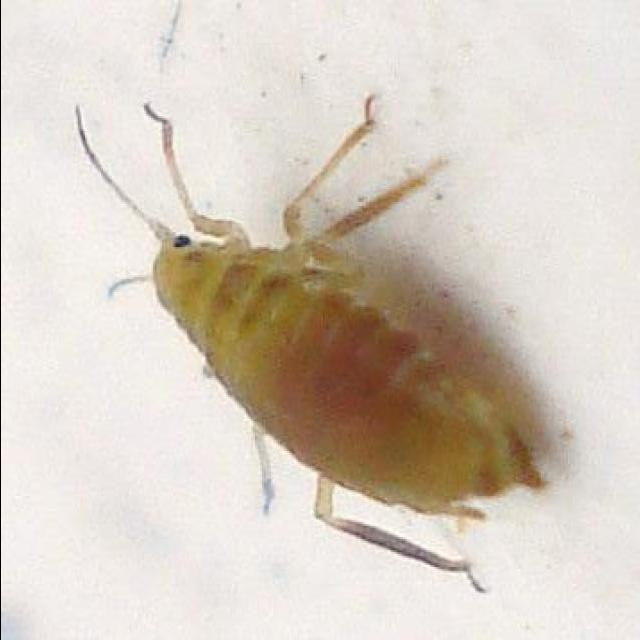aphid: (61, 62, 560, 610)
